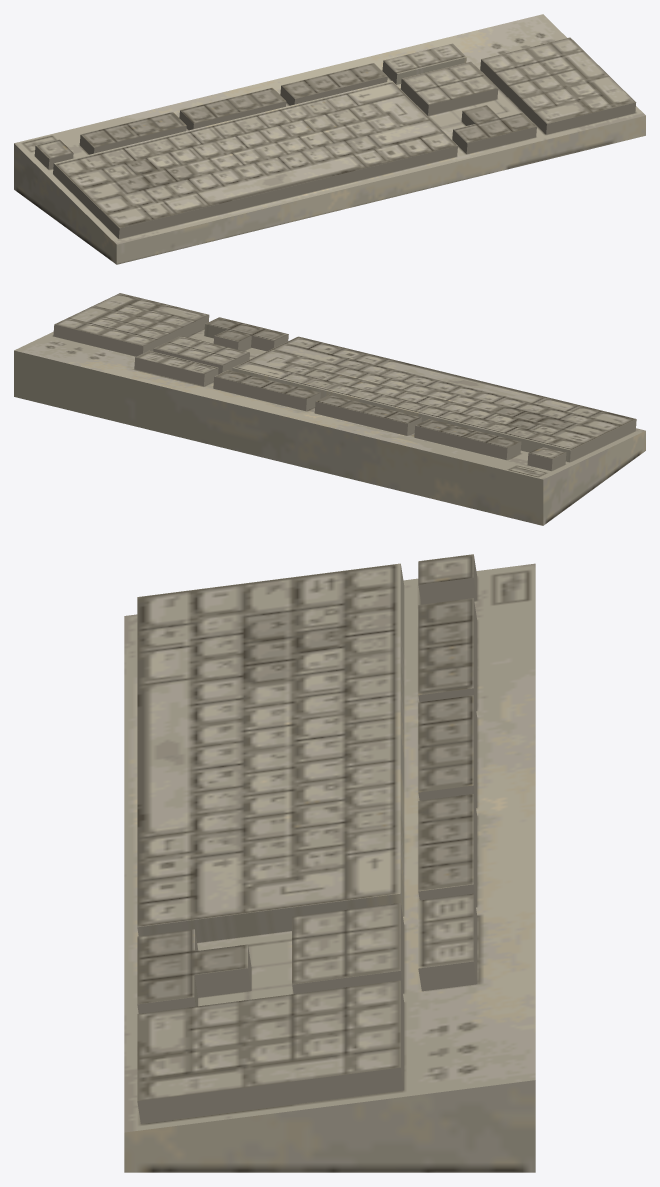
The model's file is Keyboard.fbx.
3 renders of one model, top to bottom at view 1: azimuth 30°, elevation 25°; view 2: azimuth 150°, elevation 25°; view 3: azimuth 270°, elevation 25°, orthographic. The views are drawn at different scales.
Parts seen in each view (by area): view 1: Keyboard; view 2: Keyboard; view 3: Keyboard.
Part boxes in pixels (left/top/right/bottom): Keyboard: left=14, top=14, right=645, bottom=264; Keyboard: left=14, top=293, right=645, bottom=525; Keyboard: left=124, top=554, right=535, bottom=1172.
Bounding box in the file's own units: 0.4808 × 0.0469 × 0.1617.
1 material, 1 textured.
